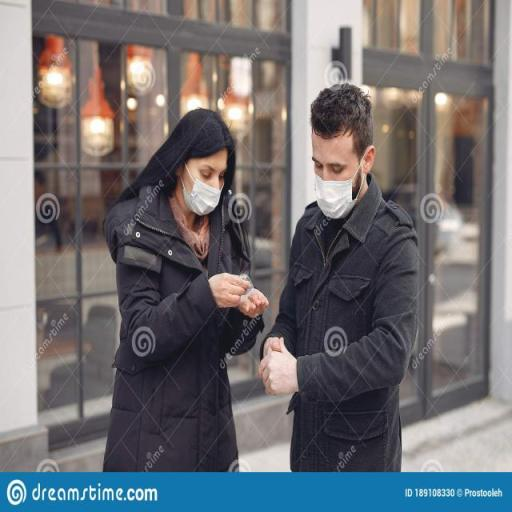person: (264, 85, 422, 475), (106, 105, 271, 467)
